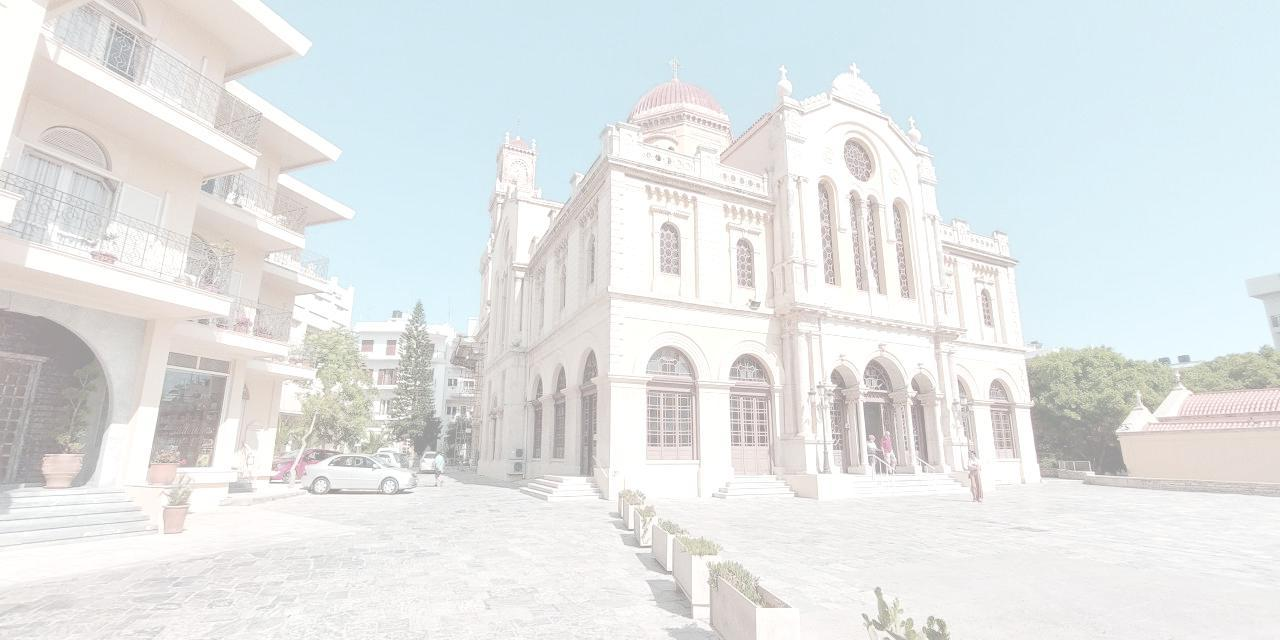Agios Minas: (471, 50, 1055, 503)
